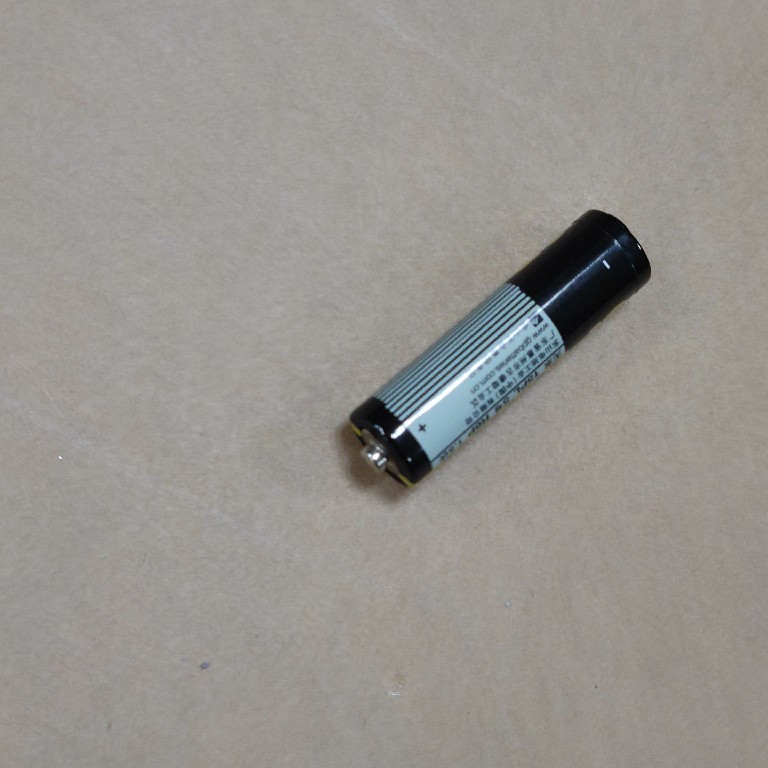charge: (344, 205, 655, 493)
